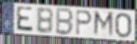B: (55, 7, 75, 37), (36, 7, 54, 35)
E: (16, 5, 35, 34)
M: (93, 10, 116, 39)
O: (115, 12, 133, 39)
P: (75, 9, 94, 37)
